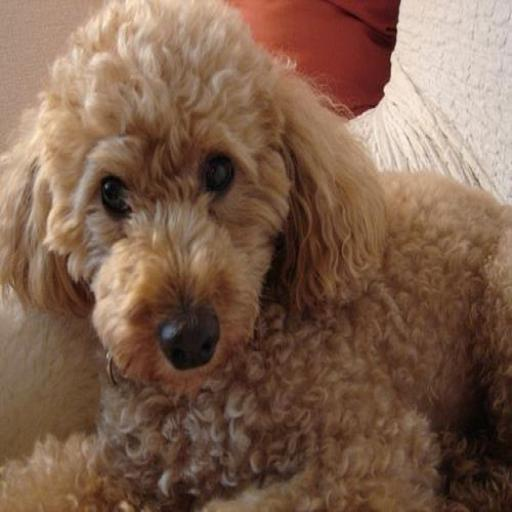dog_face: (5, 9, 372, 386)
